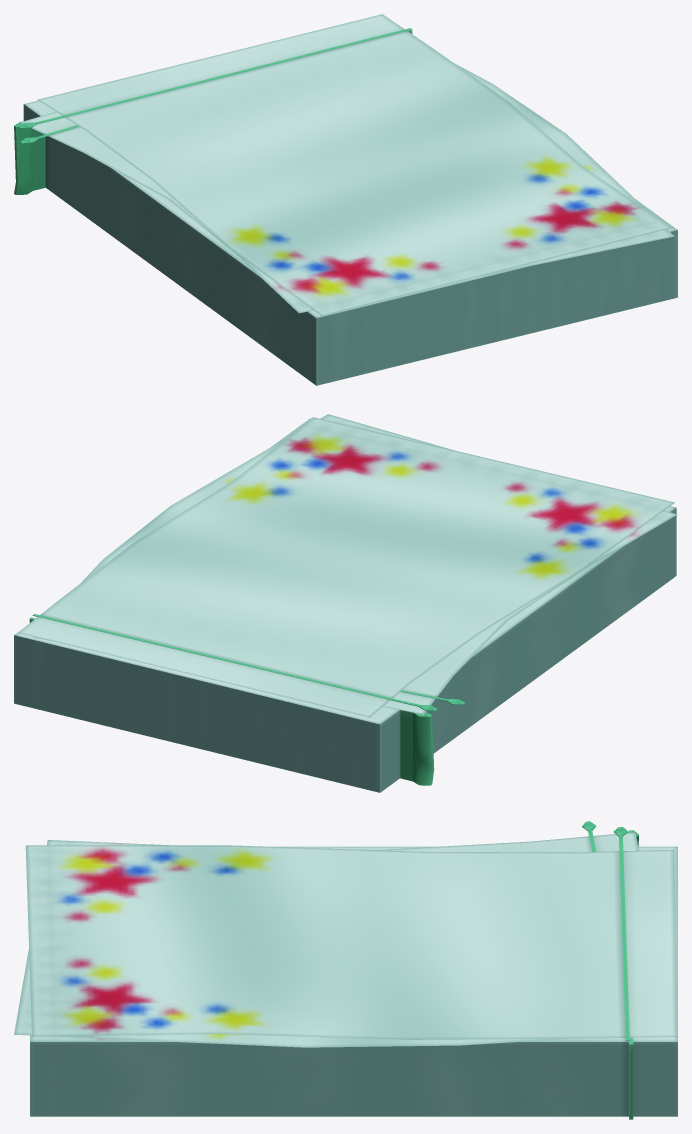
File: jsf_GoldfishBag_B_Set.fbx
The picture shows the model from 3 angles, top to bottom: view 1: azimuth 30°, elevation 25°; view 2: azimuth 150°, elevation 25°; view 3: azimuth 270°, elevation 25°; orthographic projection. The views are drawn at different scales.
Visible parts, largest first — view 1: GoldfishBag_B02, GoldfishBag_B_Set, GoldfishBag_B01; view 2: GoldfishBag_B02, GoldfishBag_B_Set, GoldfishBag_B01; view 3: GoldfishBag_B02, GoldfishBag_B_Set, GoldfishBag_B01.
Part boxes in pixels (x1,y1,x2,y2): GoldfishBag_B02: (18, 14, 672, 316); GoldfishBag_B_Set: (14, 30, 677, 385); GoldfishBag_B01: (19, 64, 674, 313); GoldfishBag_B02: (18, 417, 674, 717); GoldfishBag_B_Set: (14, 418, 676, 792); GoldfishBag_B01: (34, 414, 677, 714); GoldfishBag_B02: (25, 827, 677, 1040); GoldfishBag_B_Set: (30, 830, 677, 1119); GoldfishBag_B01: (14, 821, 638, 1047).
Bounding box in the file's own units: 16.2 × 2.62 × 20.11.
